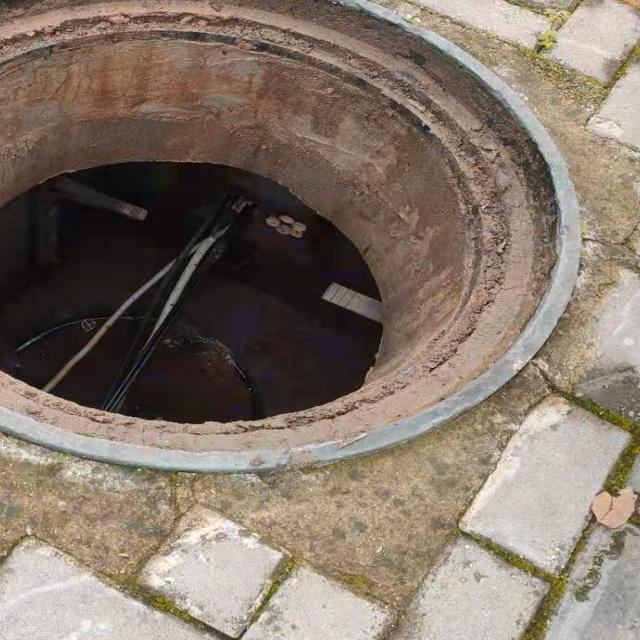lose: (0, 0, 589, 479)
